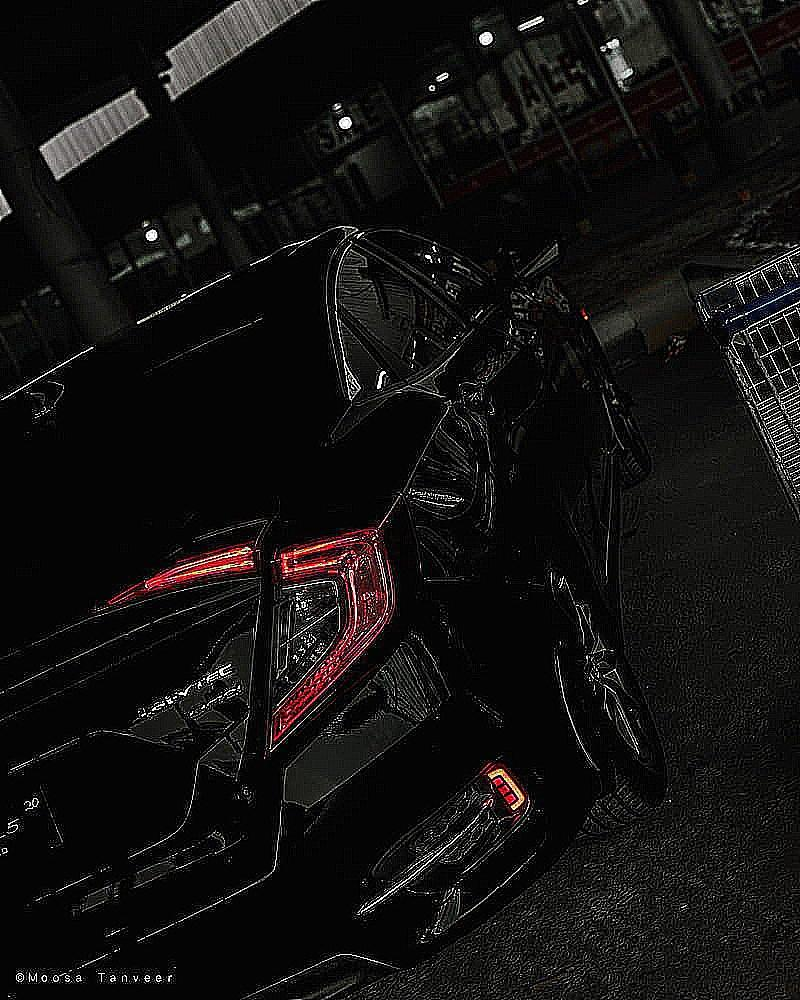Car boot: (0, 470, 285, 953)
Driver-s door - -F-R-: (349, 214, 625, 498)
Fender - -R-R-: (324, 389, 598, 654)
Passenger-s door - -R-R-: (315, 240, 613, 602)
Rear bumper: (0, 615, 590, 1000)
Rear light - -R-: (99, 524, 394, 760)
Side bumper - -R-: (566, 429, 647, 643)
Side mirror - -R-: (498, 239, 600, 288)
